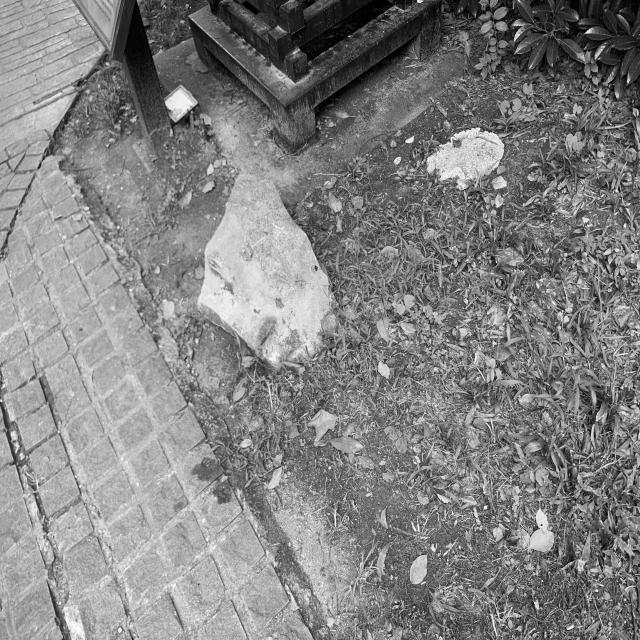Stone: (198, 174, 334, 367)
